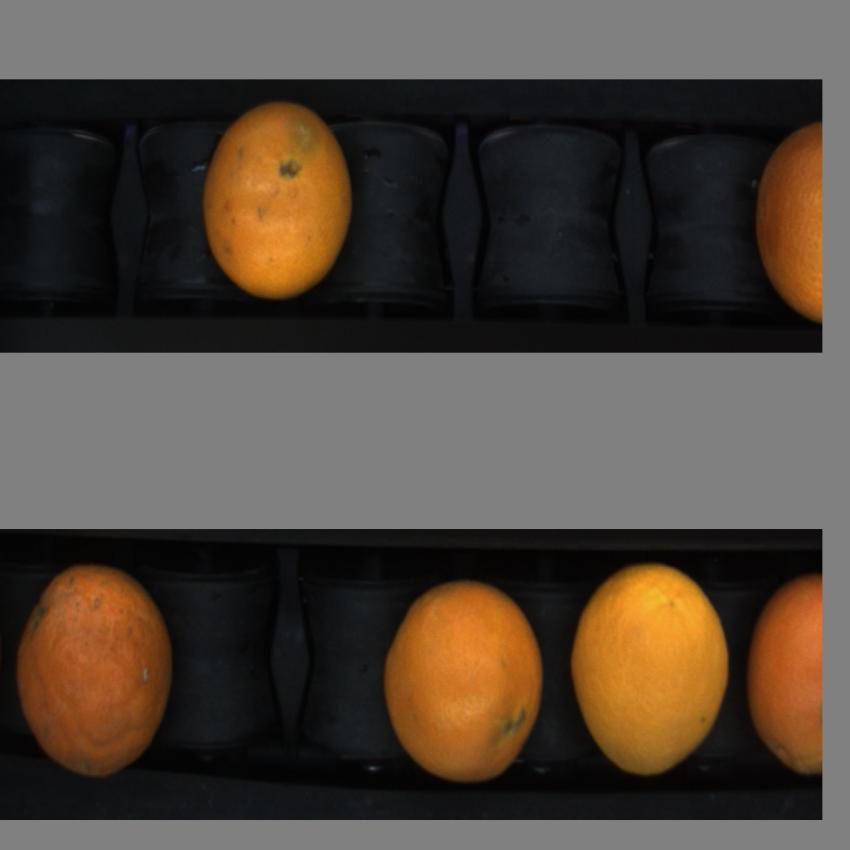Buen estado: (378, 570, 548, 784), (565, 564, 739, 772), (195, 96, 359, 305), (749, 568, 822, 794), (747, 117, 822, 334)
Mal estado: (10, 553, 193, 781)
